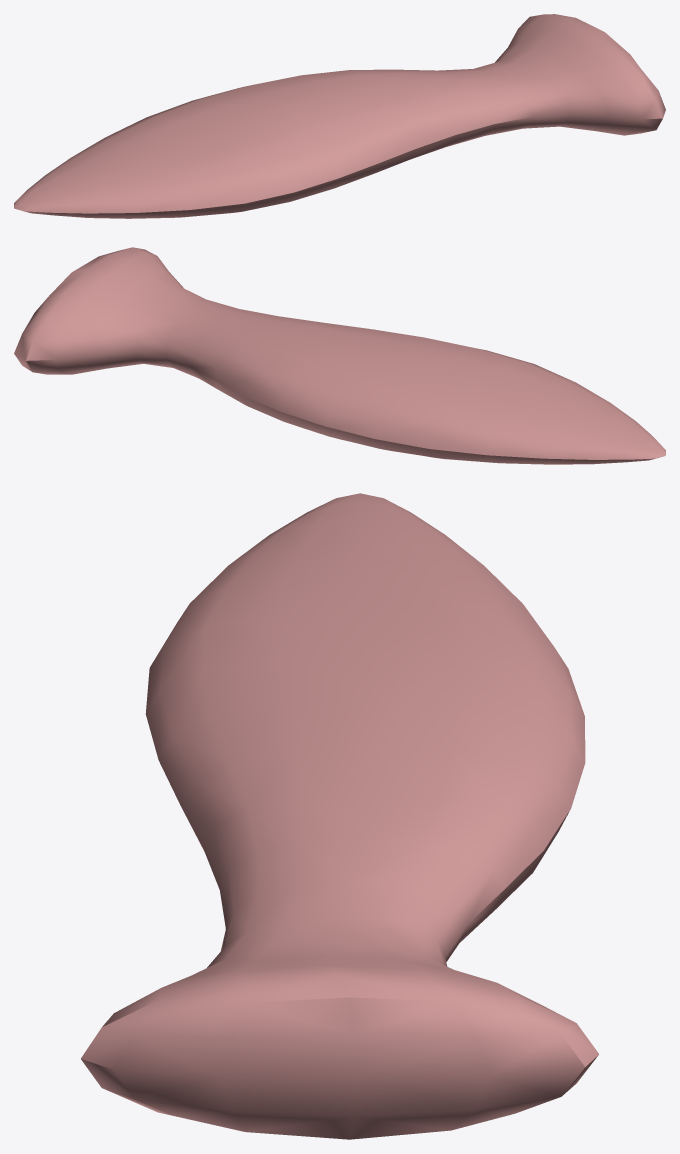
The model's file is fish.fbx.
The picture shows the model from 3 angles, top to bottom: view 1: azimuth 30°, elevation 25°; view 2: azimuth 150°, elevation 25°; view 3: azimuth 270°, elevation 25°; orthographic projection. The views are drawn at different scales.
Parts seen in each view (by area): view 1: Cube; view 2: Cube; view 3: Cube.
Part boxes in pixels (box(x1,y1,x2,y2)): Cube: box(14, 14, 665, 218); Cube: box(14, 247, 665, 464); Cube: box(81, 493, 598, 1139).
Size of the model in its own units: 596 by 76.1 by 223.
